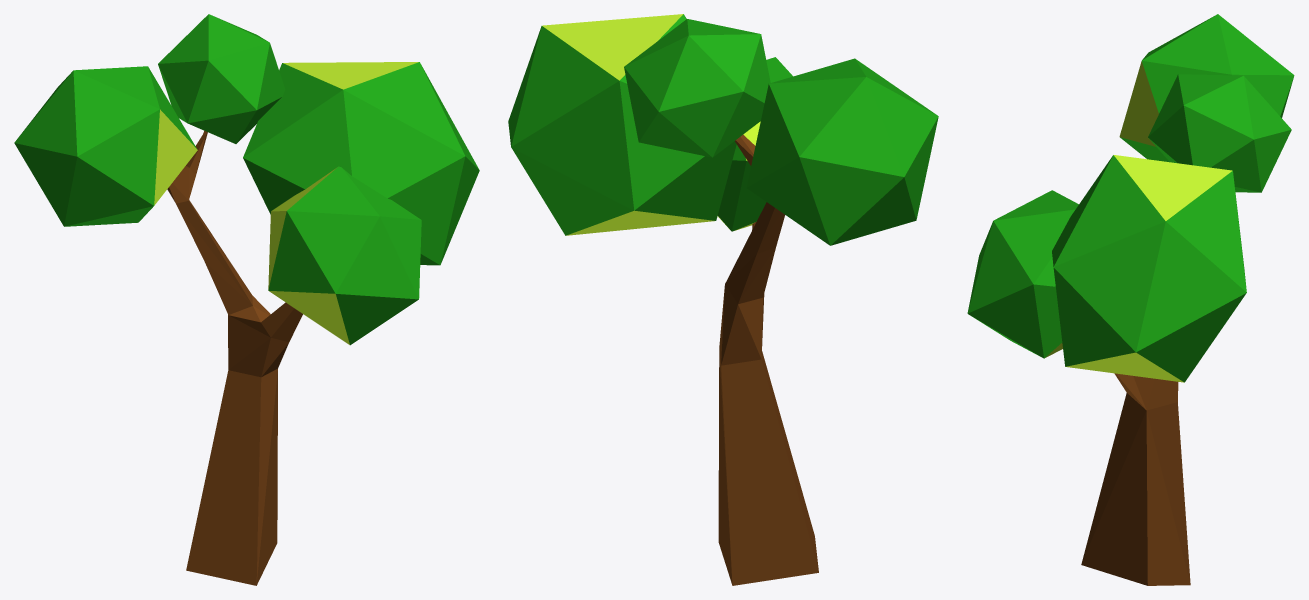
File: Tree2.fbx
3 renders of one model, left to right at view 1: azimuth 30°, elevation 25°; view 2: azimuth 150°, elevation 25°; view 3: azimuth 270°, elevation 25°, orthographic. The views are drawn at different scales.
Parts seen in each view (by area): view 1: wood.002; view 2: wood.002; view 3: wood.002.
Boxes of the visible parts, x1,y1,x2,y2 form: wood.002: (14, 14, 479, 585); wood.002: (508, 14, 938, 585); wood.002: (967, 14, 1294, 585).
Bounding box in the file's own units: 554 × 661 × 380.
